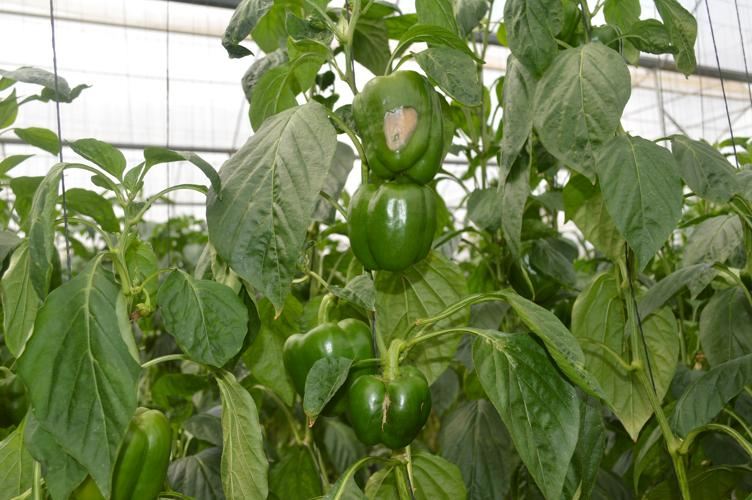BellPepper: (354, 72, 445, 179), (70, 408, 170, 494), (344, 180, 435, 269), (282, 320, 370, 410), (351, 372, 432, 449), (510, 247, 562, 303)
